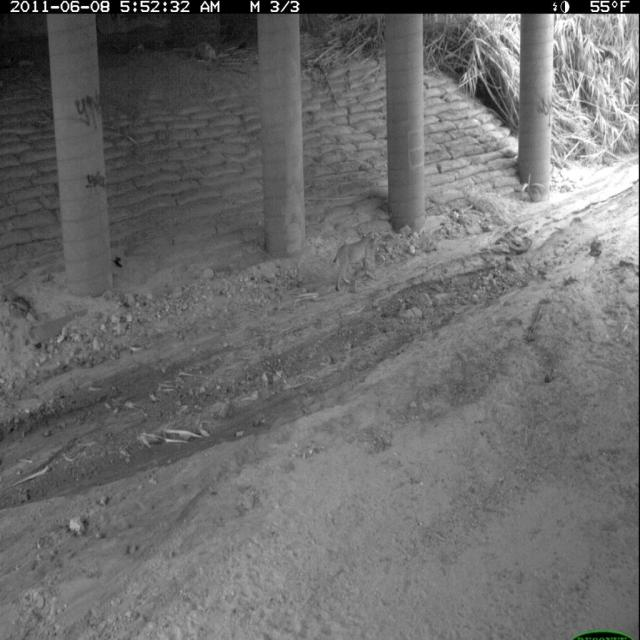bobcat: (330, 227, 383, 297)
